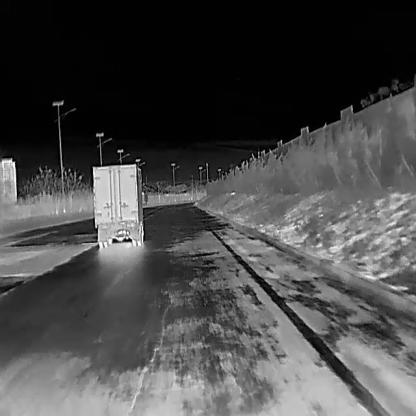truck: (92, 162, 146, 247)
